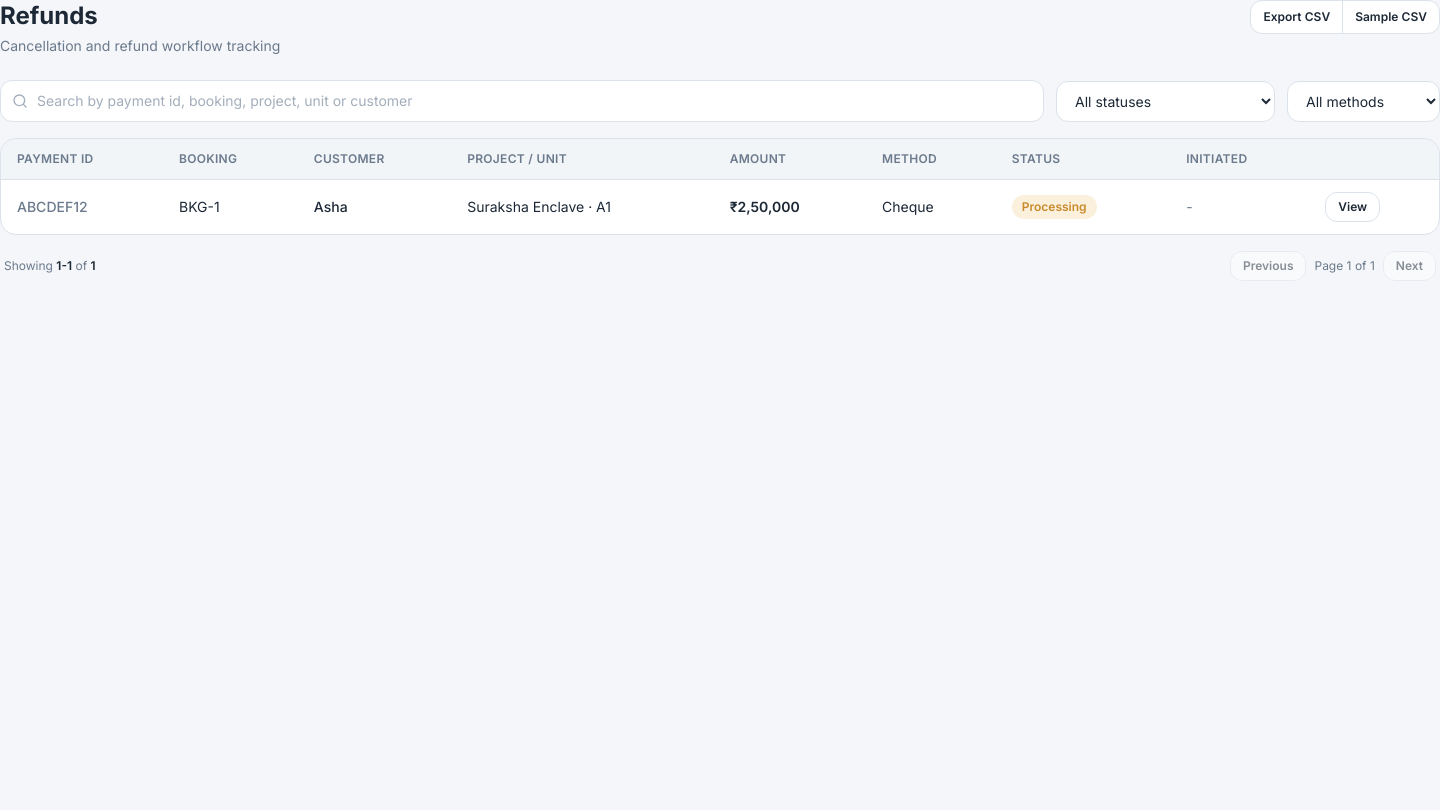
it: RefundsPage - a refund paid back by hand › never offers a retry for a cheque refund, even while processing
Click the button "View" at (1353, 207), box [1325,192,1380,222]
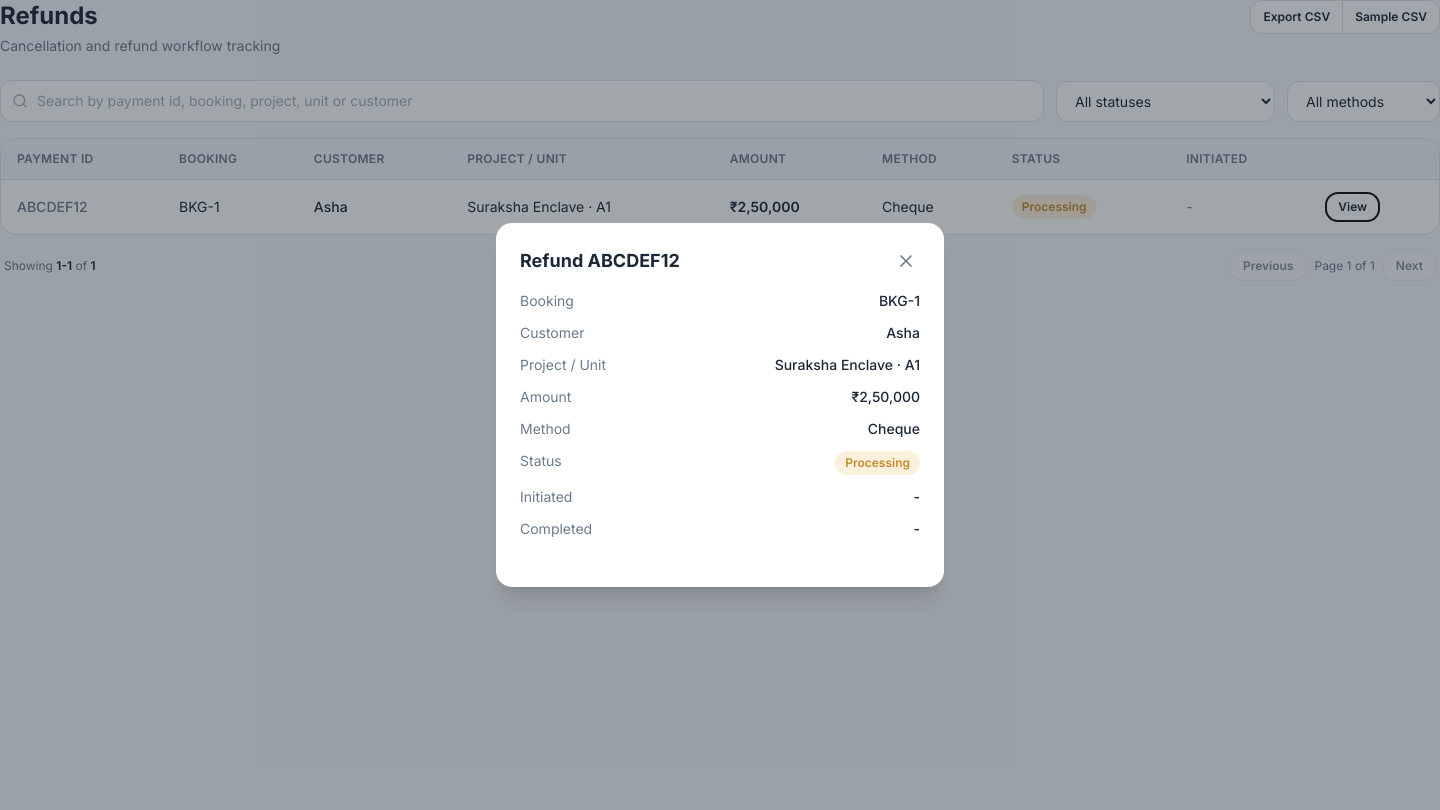
Now the heading "Refund ABCDEF12" is shown, box [520,247,680,275]
